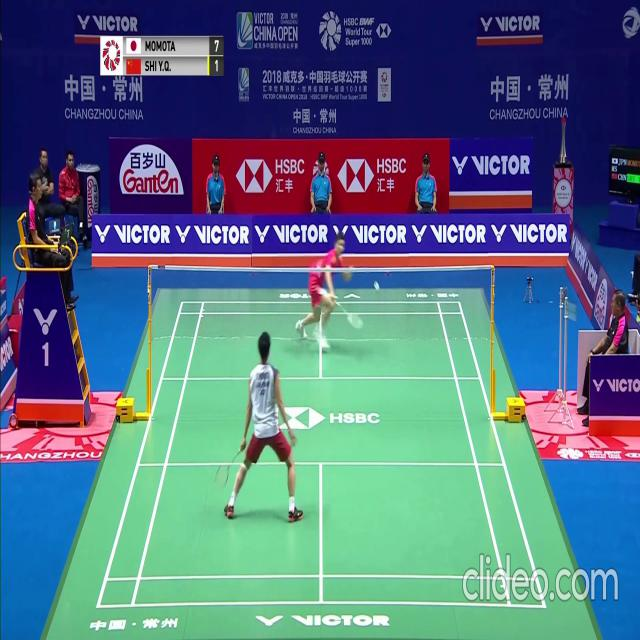Shuttlecock: (375, 282, 380, 290)
